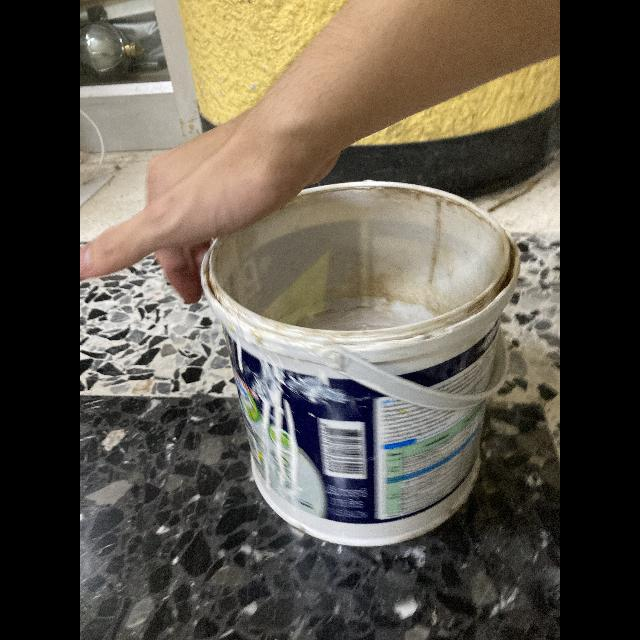paint_bucket: (200, 177, 524, 547)
